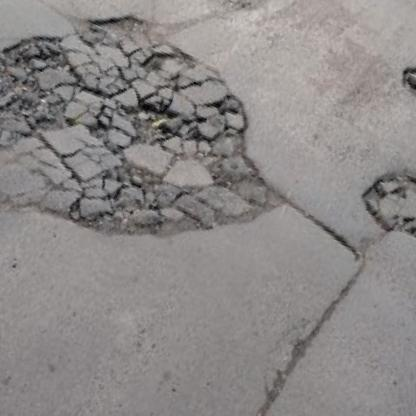pothole: (0, 0, 332, 311), (348, 153, 416, 295), (387, 58, 416, 184), (189, 0, 286, 32)
